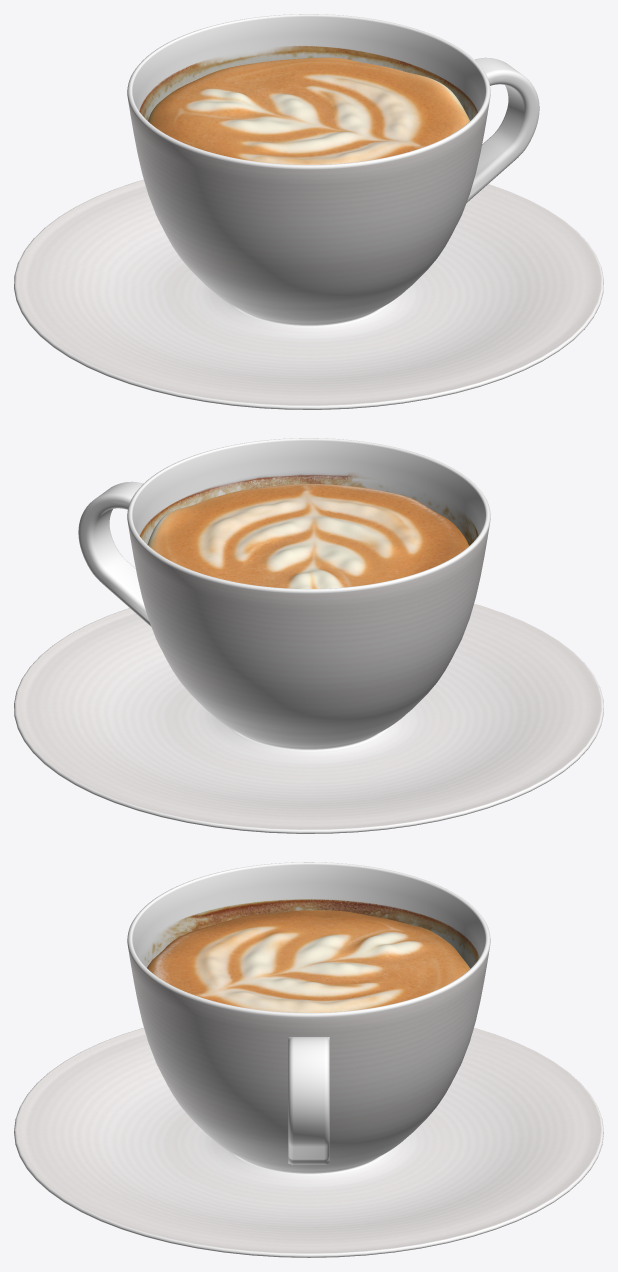
Rendered from cup.glb.
The picture shows the model from 3 angles, top to bottom: view 1: azimuth 30°, elevation 25°; view 2: azimuth 150°, elevation 25°; view 3: azimuth 270°, elevation 25°; orthographic projection.
Parts seen in each view (by area): view 1: spodeczek_3, object 1, pianka_1; view 2: spodeczek_3, object 1, pianka_1; view 3: spodeczek_3, object 1, pianka_1.
Boxes of the visible parts, left/top/right/bottom form: spodeczek_3: left=14, top=179, right=603, bottom=409; object 1: left=127, top=14, right=539, bottom=325; pianka_1: left=148, top=57, right=469, bottom=164; spodeczek_3: left=14, top=603, right=603, bottom=833; object 1: left=78, top=438, right=490, bottom=749; pianka_1: left=147, top=484, right=468, bottom=588; spodeczek_3: left=14, top=1027, right=603, bottom=1257; object 1: left=127, top=862, right=490, bottom=1173; pianka_1: left=147, top=910, right=470, bottom=1012.
Size of the model in its own units: 0.2846 by 0.1132 by 0.2846.
5 materials, 3 textured.
